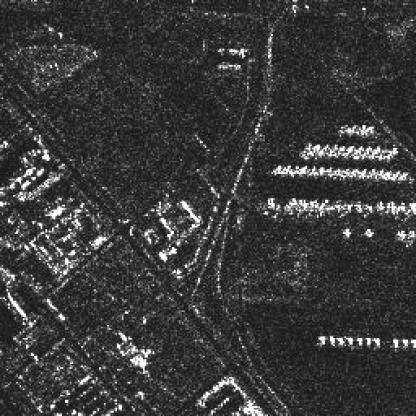airplane: (341, 228, 353, 235), (344, 336, 354, 344), (392, 336, 400, 346), (356, 335, 364, 344), (364, 335, 372, 344), (364, 228, 372, 237), (336, 336, 343, 346), (401, 336, 408, 346), (317, 335, 325, 343), (396, 229, 404, 237), (406, 231, 414, 239), (328, 335, 335, 343), (374, 335, 380, 344), (408, 338, 414, 346)
